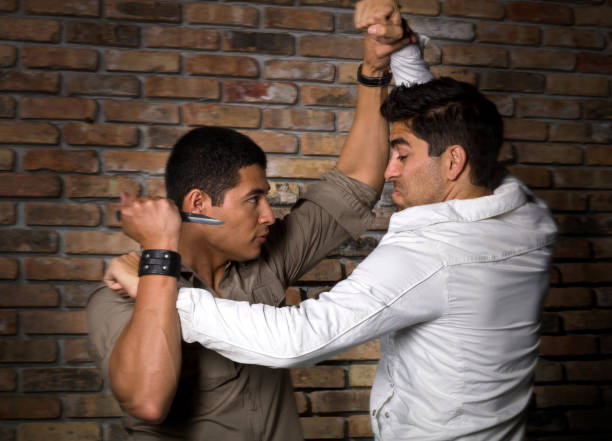13: (1, 155, 508, 437), (289, 357, 383, 439)
67: (130, 249, 207, 288), (138, 251, 181, 278), (182, 212, 221, 225)
79: (182, 213, 224, 226)
handguns: (98, 69, 550, 436), (23, 0, 437, 330), (84, 124, 391, 433), (76, 50, 423, 318), (268, 0, 436, 290), (304, 1, 438, 219)
